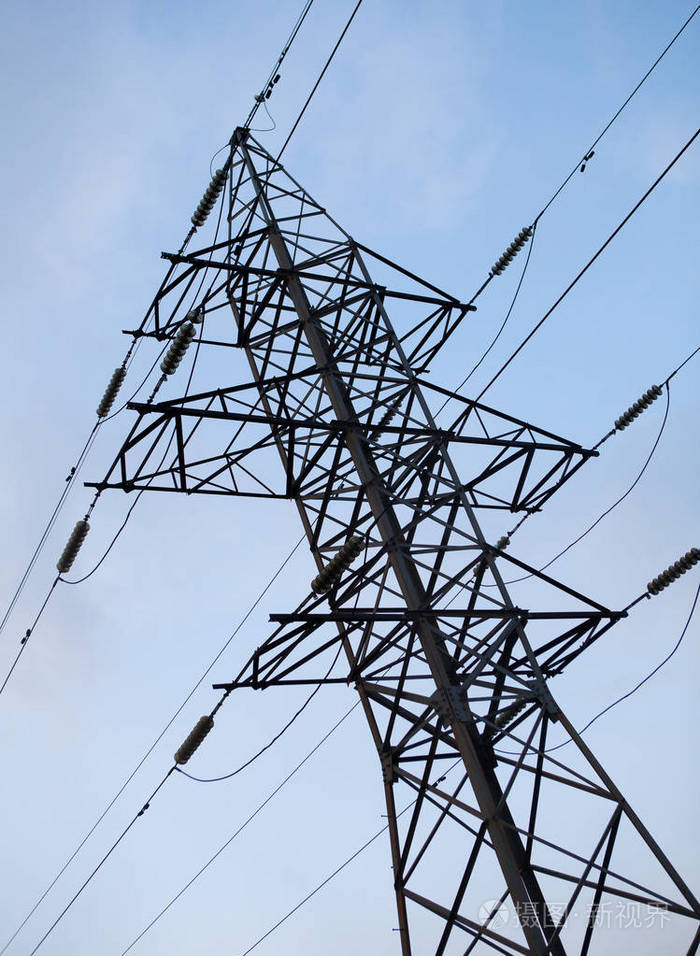insulator: (311, 538, 363, 594), (160, 308, 203, 374), (649, 548, 699, 595), (190, 169, 227, 226), (488, 229, 532, 275), (617, 384, 660, 431), (173, 716, 210, 765), (55, 522, 89, 574), (95, 366, 123, 417)
